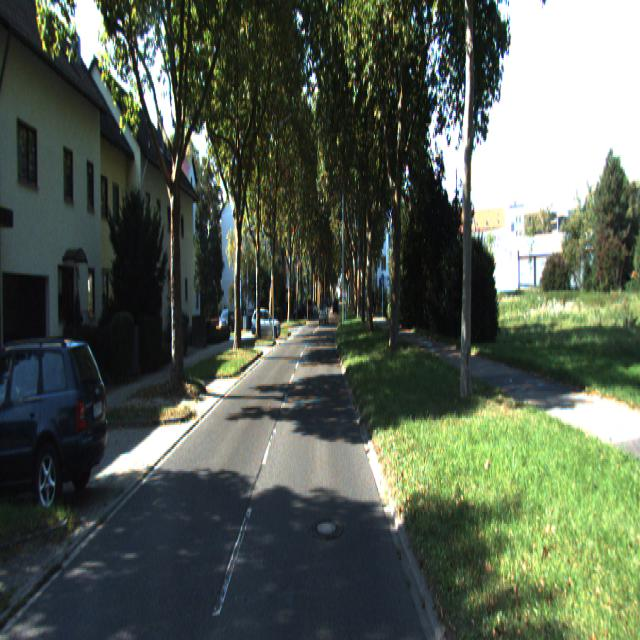Car: (0, 328, 116, 520), (250, 308, 281, 339)
